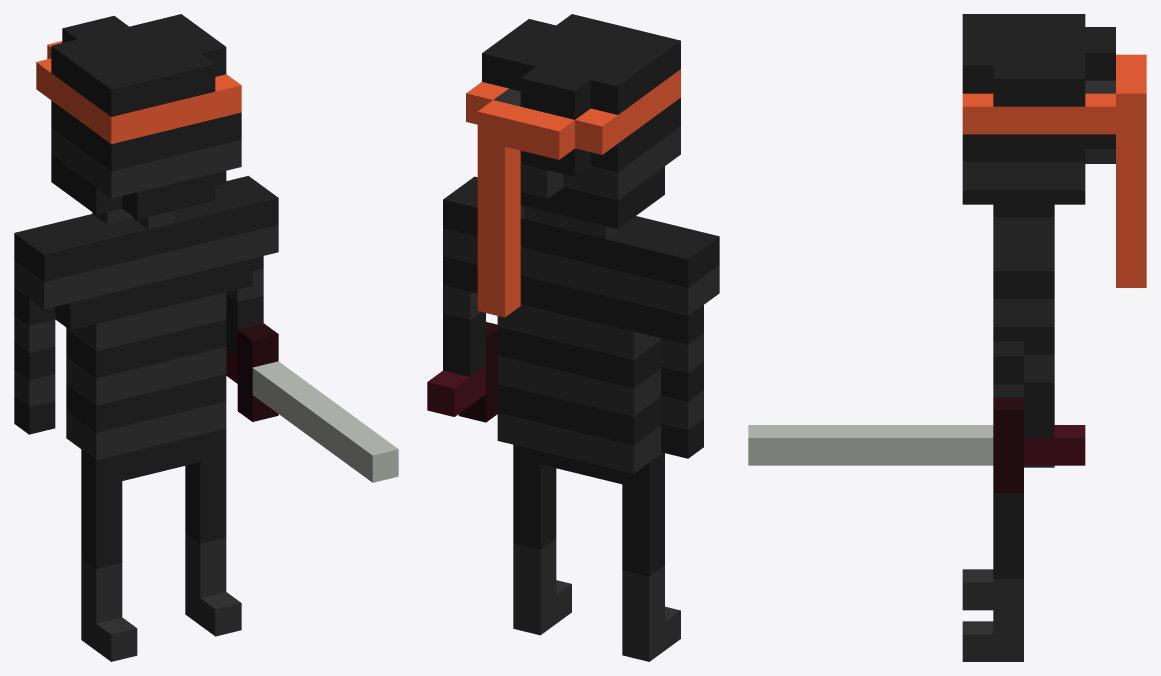
Rendered from SwingingNinjaCharater-6.obj.
The picture shows the model from 3 angles, left to right: view 1: azimuth 30°, elevation 25°; view 2: azimuth 150°, elevation 25°; view 3: azimuth 270°, elevation 25°; orthographic projection. The views are drawn at different scales.
Parts seen in each view (by area): view 1: SwingingNinjaCharater-6; view 2: SwingingNinjaCharater-6; view 3: SwingingNinjaCharater-6.
Part boxes in pixels (x1,y1,x2,y2): SwingingNinjaCharater-6: [14, 14, 398, 661]; SwingingNinjaCharater-6: [427, 14, 719, 661]; SwingingNinjaCharater-6: [748, 14, 1146, 661].
Bounding box in the file's own units: 9 × 21 × 13.
1 material, 1 textured.
